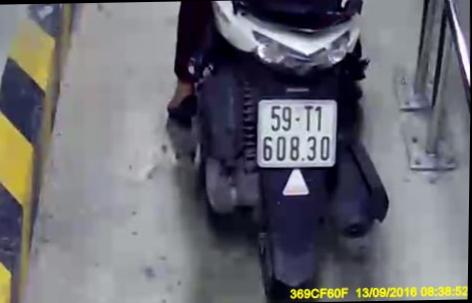LP: (254, 95, 339, 170)
